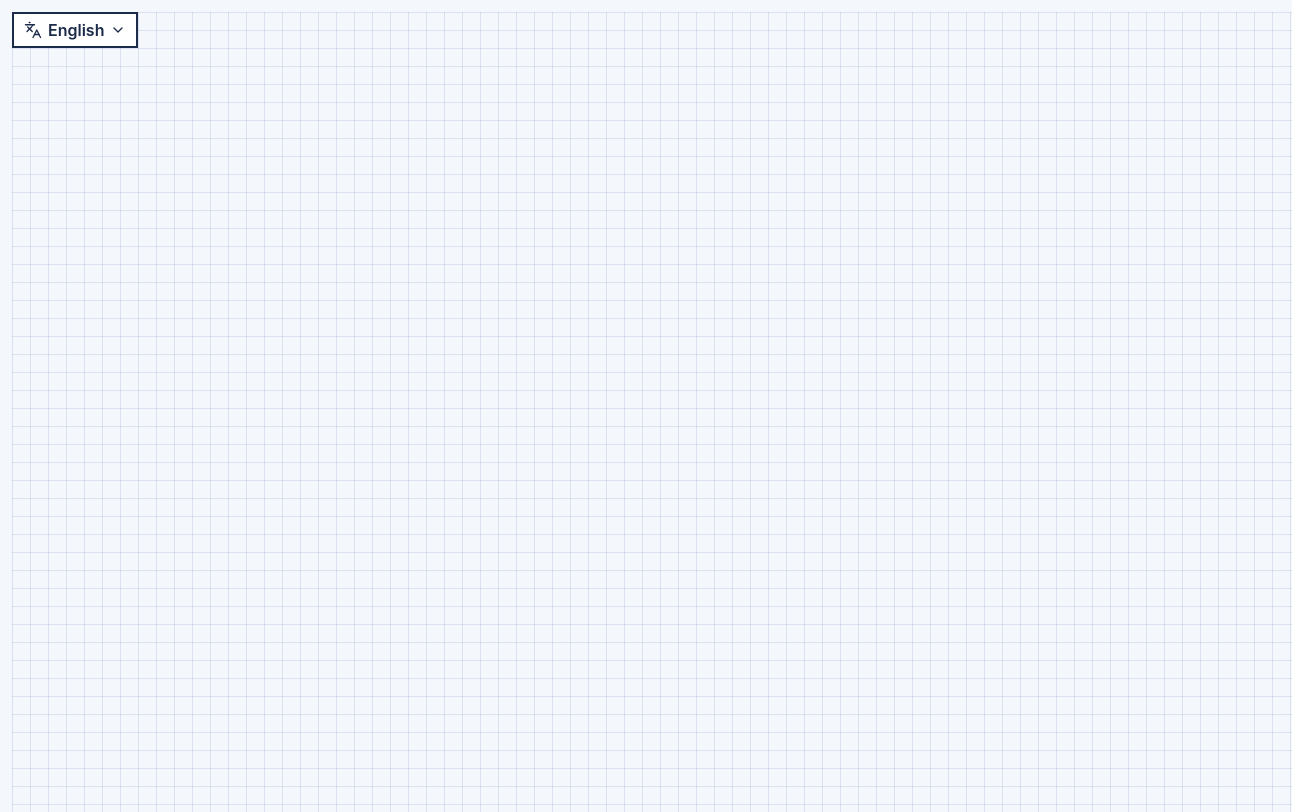
LanguageSwitcher (spec 4.2) › lists the five languages by their own names, each to the same page
The width and height of the screenshot is (1292, 812).
Click the button with aria-label "Language: English" at (75, 30), box [12,12,138,48]
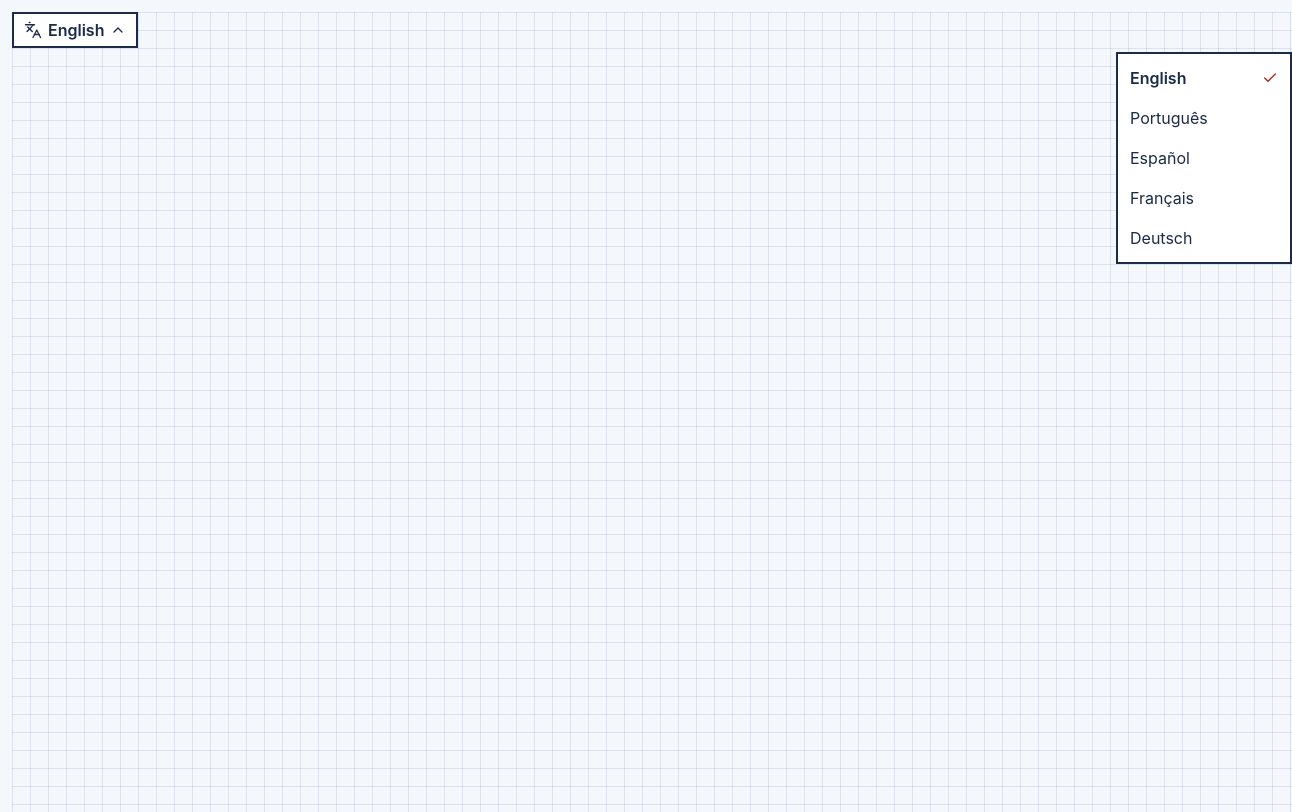
Result: the button with aria-label "Language: English" is expanded at [12,12,138,48]
